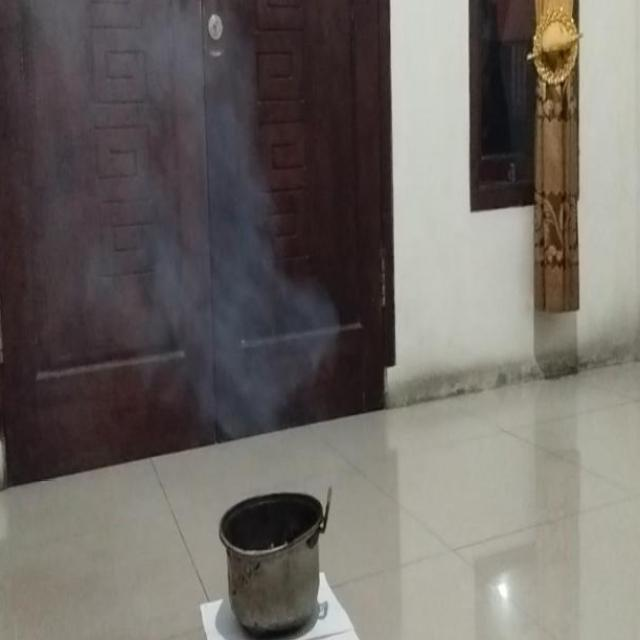fire: (57, 35, 260, 328)
